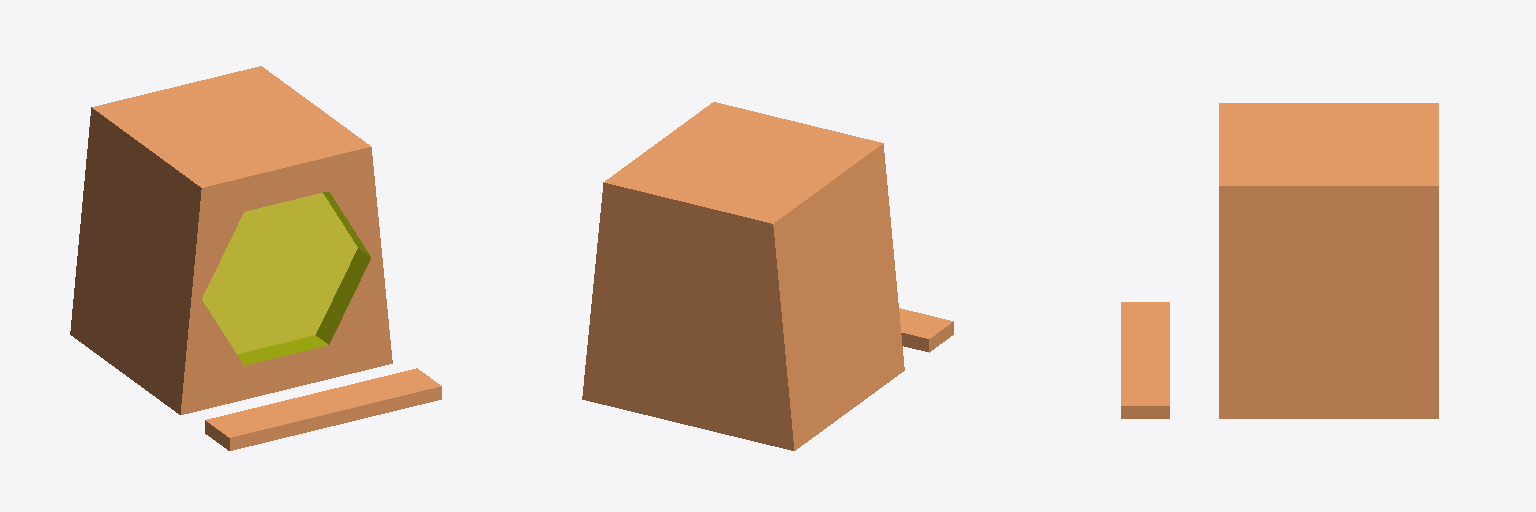
The model's file is computer5.obj.
3 renders of one model, left to right at view 1: azimuth 30°, elevation 25°; view 2: azimuth 150°, elevation 25°; view 3: azimuth 270°, elevation 25°, orthographic.
Parts seen in each view (by area): view 1: Mesh1 Model, Mesh2 Model; view 2: Mesh1 Model, Mesh2 Model; view 3: Mesh1 Model, Mesh2 Model.
Part boxes in pixels (x1,y1,x2,y2): Mesh1 Model: (70, 66, 392, 414); Mesh2 Model: (205, 368, 441, 450); Mesh1 Model: (582, 102, 904, 450); Mesh2 Model: (899, 308, 953, 352); Mesh1 Model: (1219, 103, 1438, 418); Mesh2 Model: (1121, 302, 1169, 418).
Size of the model in its own units: 0.5 by 0.5 by 0.65.